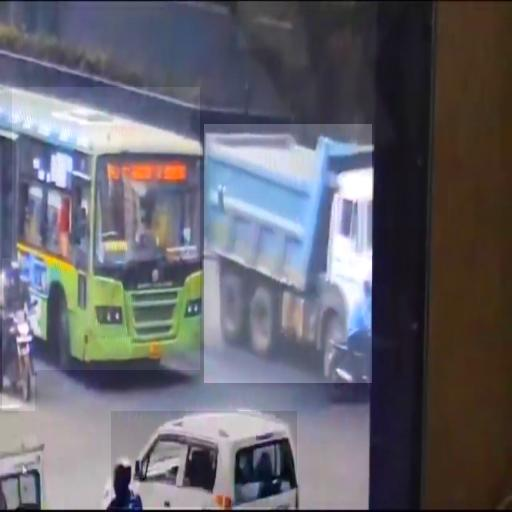小汽车: (12, 87, 200, 370), (204, 124, 372, 383), (111, 411, 297, 507)
自行车: (2, 258, 35, 411)
